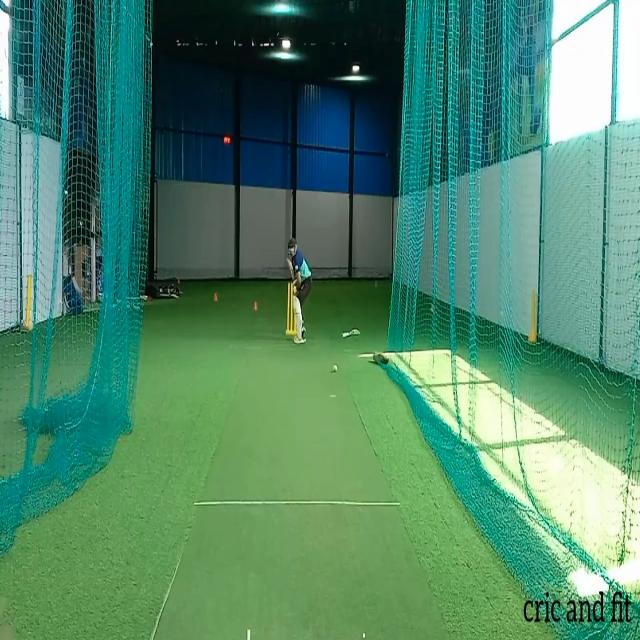batsman: (286, 237, 312, 345)
